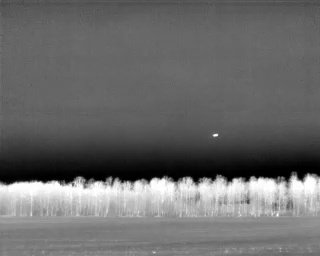DRONE: (210, 129, 222, 141)
